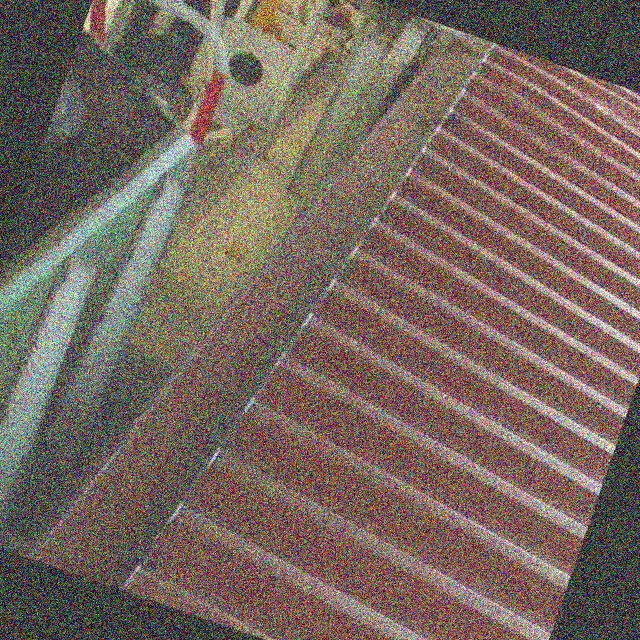Dent: (548, 75, 640, 173)
